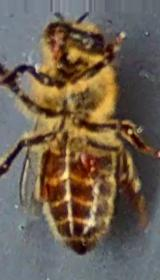varroa_mite: (68, 148, 100, 173)
